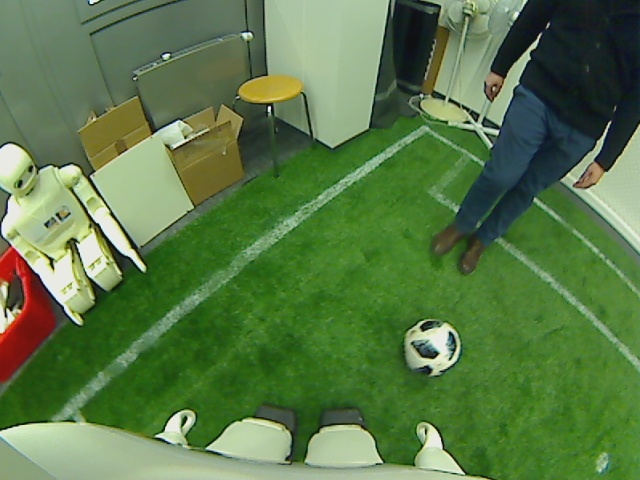ball: (401, 316, 460, 378)
